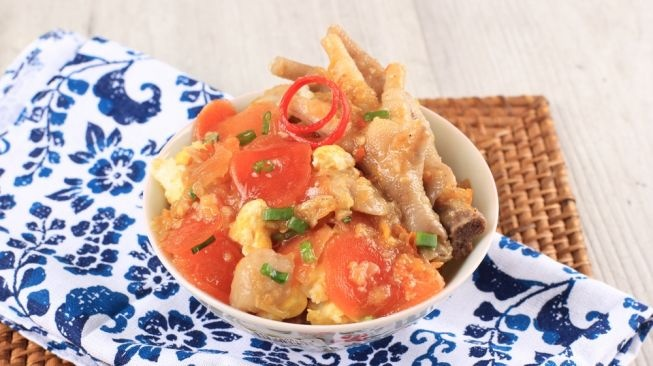seblak: (149, 24, 489, 324)
